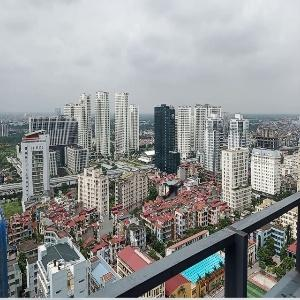drone: (156, 174, 193, 211)
